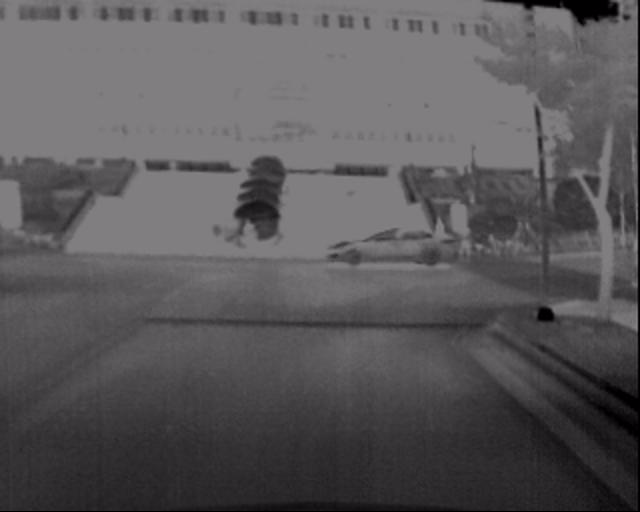person: (337, 171, 363, 215), (233, 210, 254, 259), (208, 213, 231, 256)
